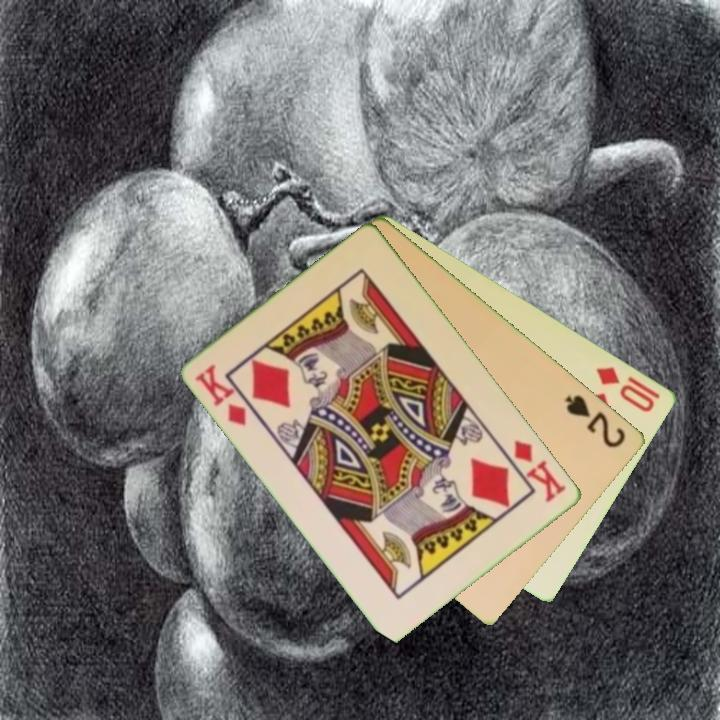10d: (593, 363, 658, 415)
2s: (562, 390, 630, 451)
Kd: (511, 436, 570, 506), (192, 360, 250, 429)
